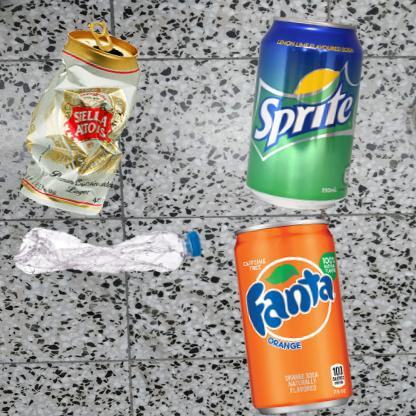botella: (10, 213, 206, 279)
lata: (213, 10, 399, 223), (10, 10, 173, 252), (213, 213, 378, 416)
